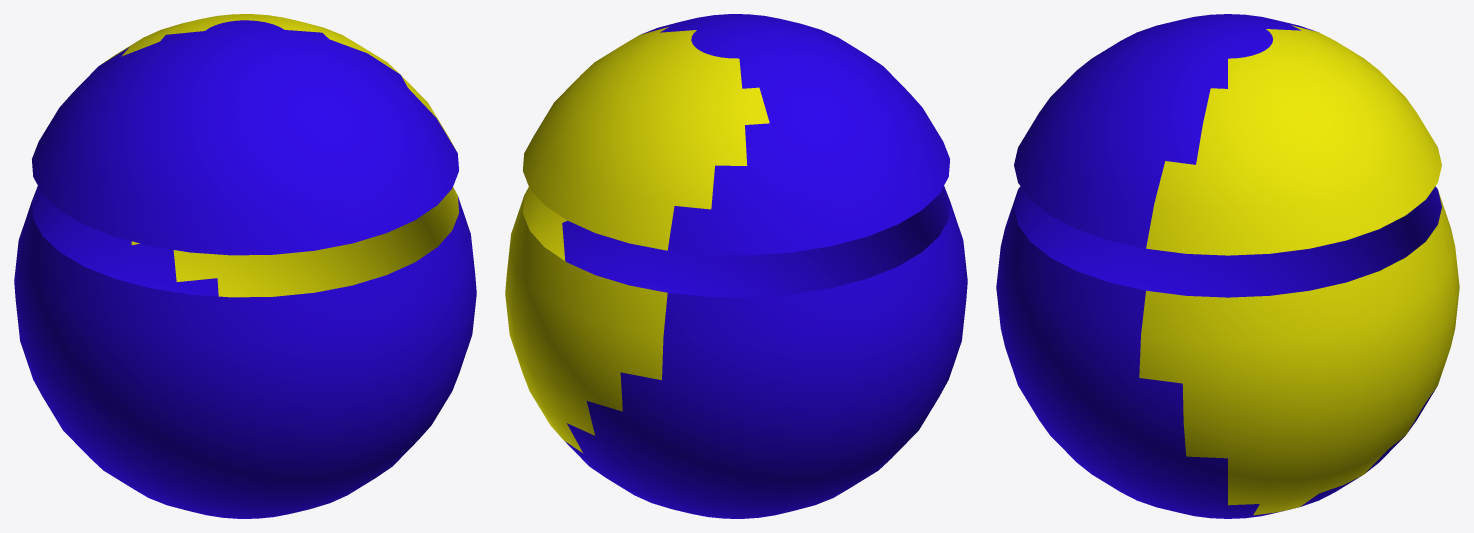
The model's file is not_manifold_2.glb.
The picture shows the model from 3 angles, left to right: view 1: azimuth 30°, elevation 25°; view 2: azimuth 150°, elevation 25°; view 3: azimuth 270°, elevation 25°; orthographic projection.
Parts seen in each view (by area): view 1: Sphere, Sphere.001; view 2: Sphere, Sphere.001; view 3: Sphere, Sphere.001.
Boxes of the visible parts, x1,y1,x2,y2 form: Sphere: (14, 186, 476, 518); Sphere.001: (32, 14, 458, 255); Sphere: (505, 186, 967, 518); Sphere.001: (523, 14, 949, 255); Sphere: (996, 186, 1459, 518); Sphere.001: (1014, 14, 1441, 255).
Bounding box in the file's own units: 2 × 2.2 × 2.
